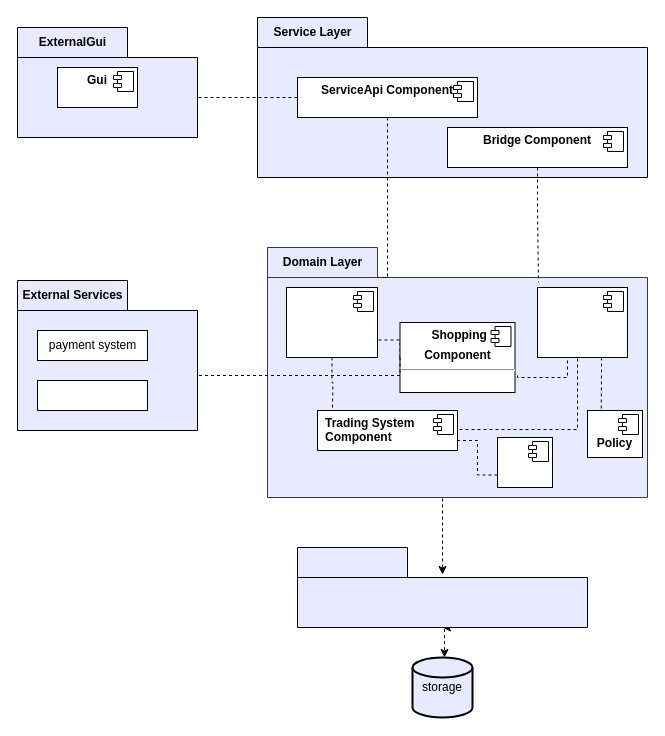
The diagram is 665 pixels wide and 736 high, and some of its shapes have lost their labels. The shapes that lost their labels are listed below. From the top down, each one's centre as x and y in pixels, then its label:
At pixel 332 322: "User Component".
At pixel 582 322: "Store Component".
At pixel 92 395: "supply systme".
At pixel 524 462: "Spelling".
At pixel 442 587: "Data Access Layer".
